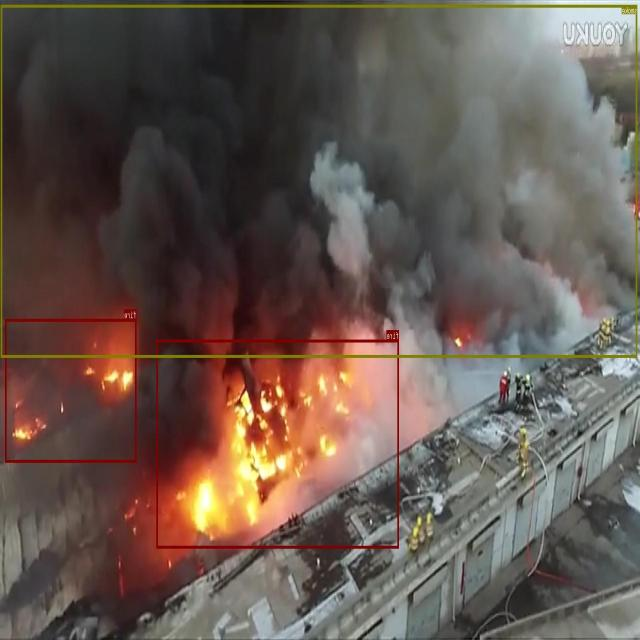fire: (157, 339, 399, 548), (5, 318, 136, 462)
smoke: (1, 4, 638, 357)
